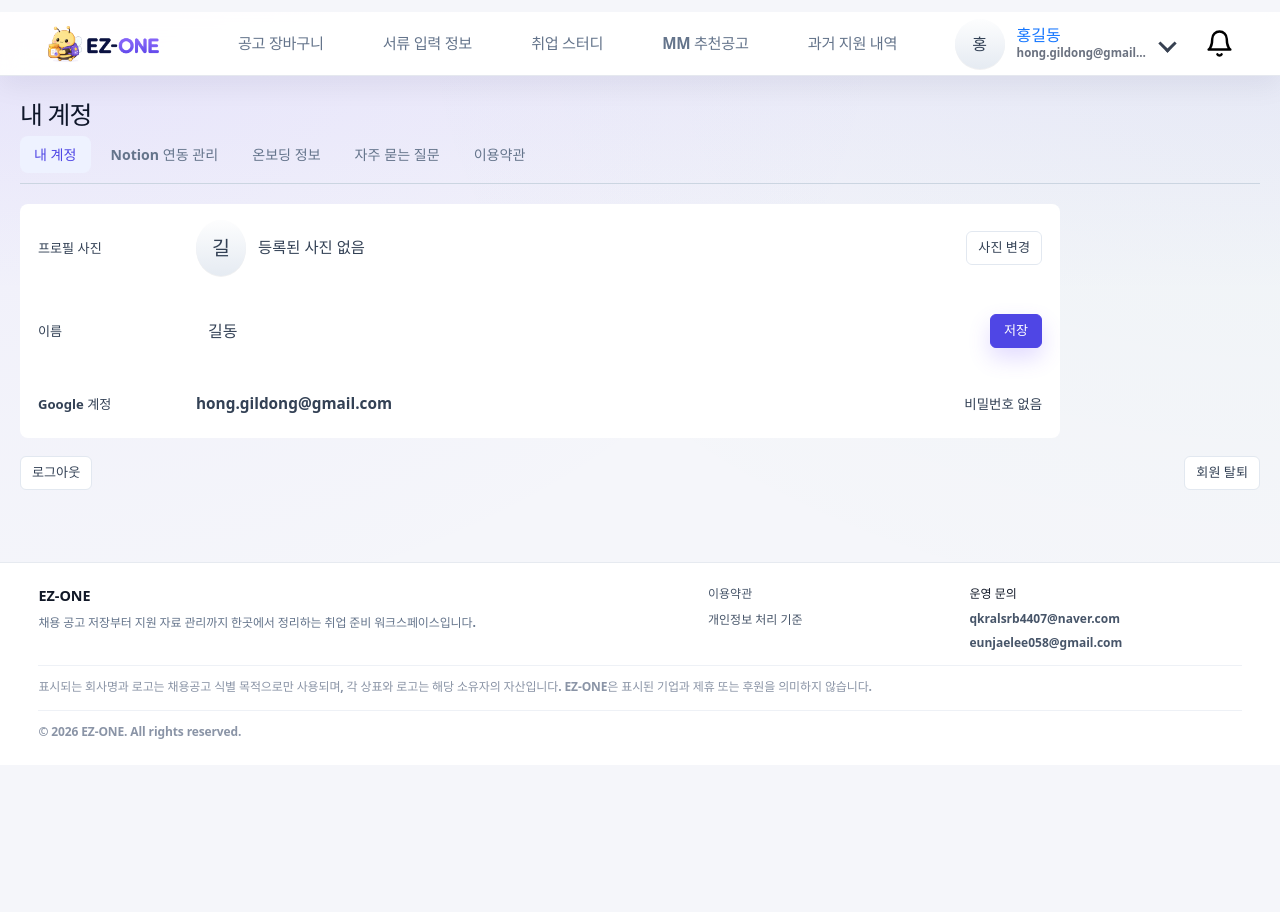
Test: MyPage › MY-ACCOUNT: renders account content and updates nickname
expect the heading "내 계정" is shown: met, box [20, 97, 91, 131]
expect the element with class "account-identity-card" is shown: met, box [20, 204, 1060, 438]
Replace the text in the field with test id "nickname-input" with "홍길동" at (584, 331), box [196, 308, 972, 354]
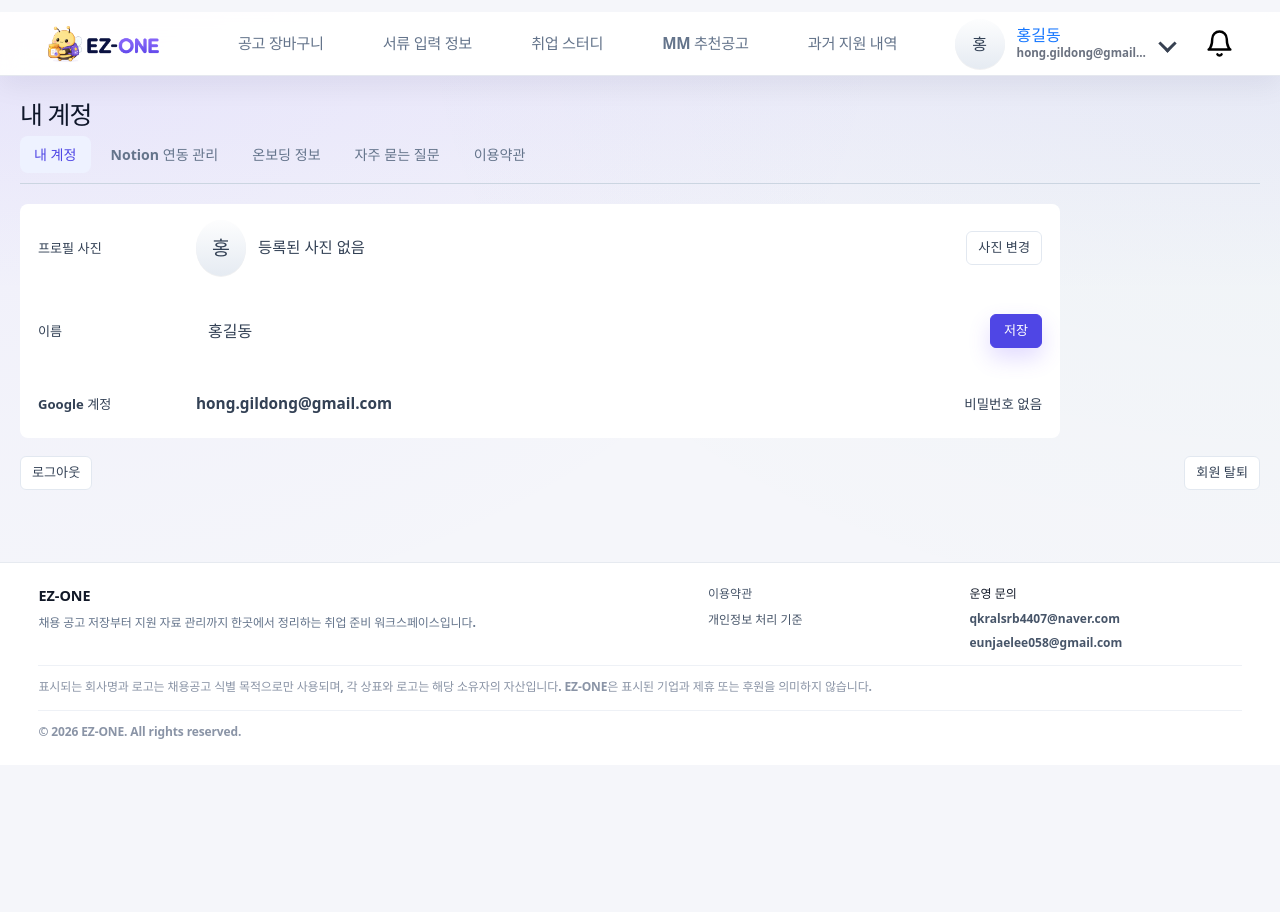
Click the button with test id "save-account-profile" at (1016, 331), box [990, 314, 1042, 348]
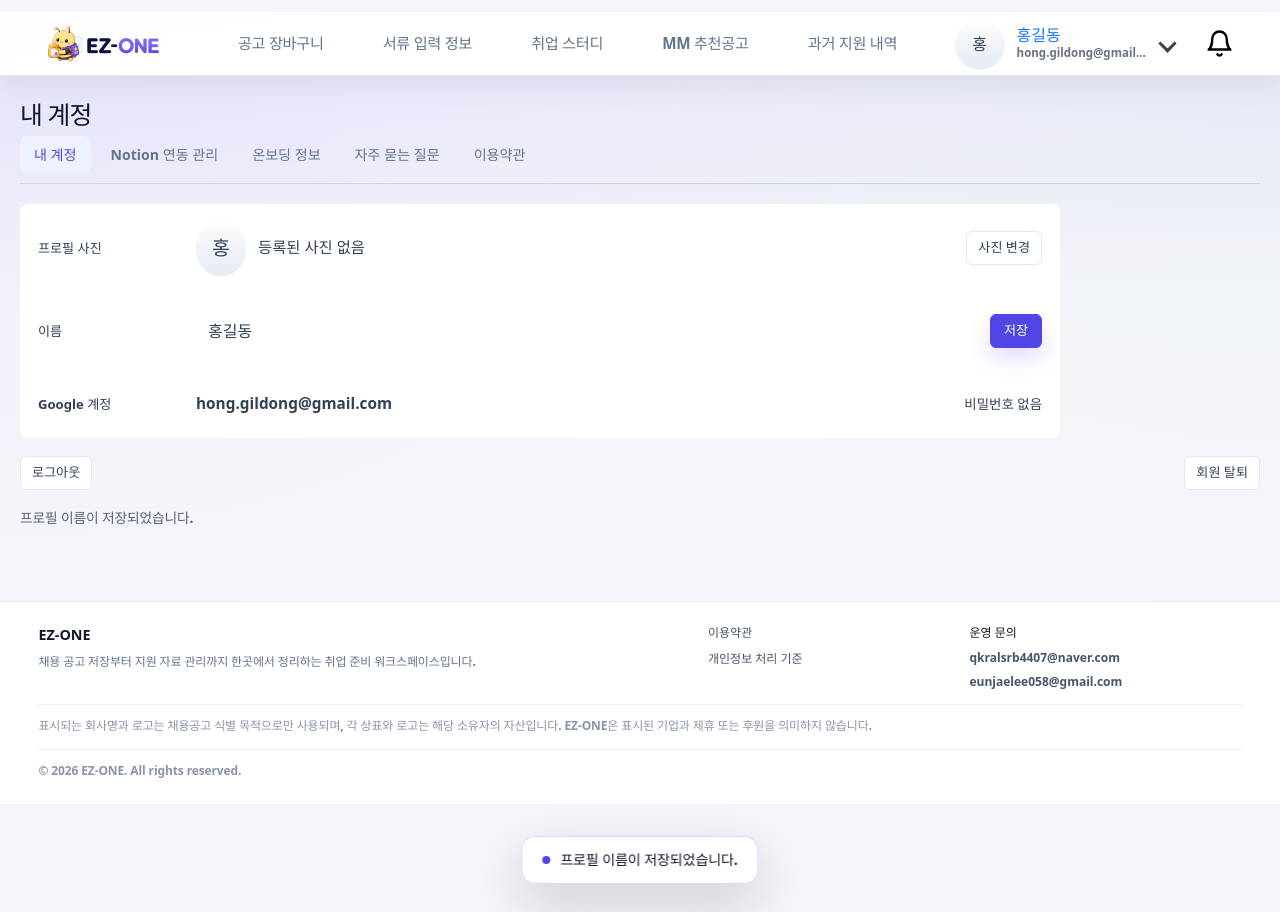
expect the text "홍길동" is shown: met, box [1017, 27, 1061, 45]
expect the text "프로필 이름이 저장되었습니다." is shown: met, box [20, 508, 193, 527]
